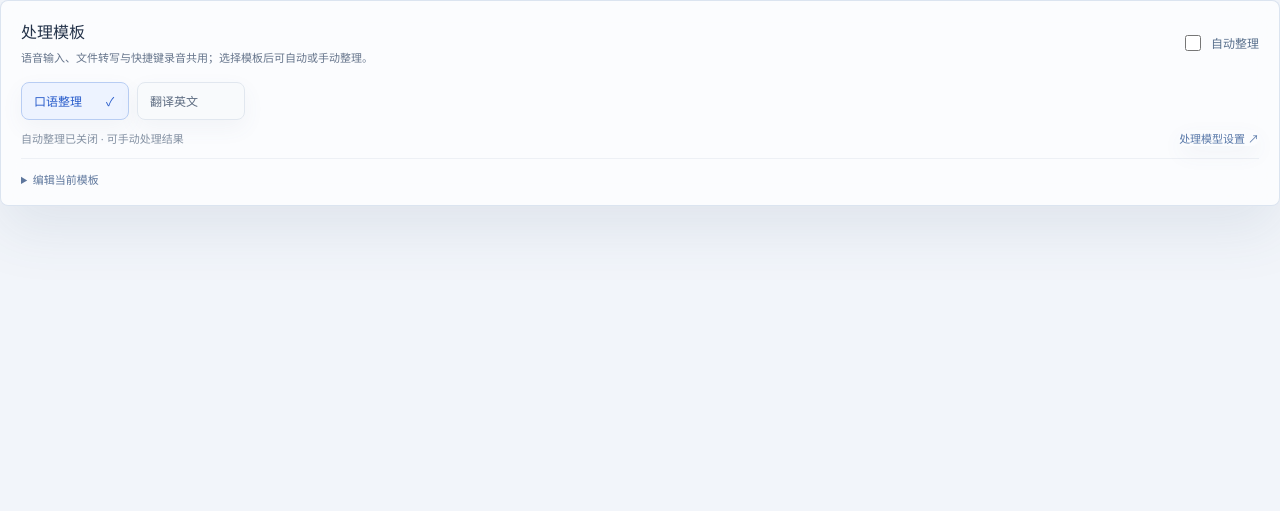
Scenario: inline recognition prompt templates › edits, adds and deletes templates in one expandable editor and retains at least one
Step 1. Click the heading "编辑当前模板" → click(66, 179), box [33,172,99,187]
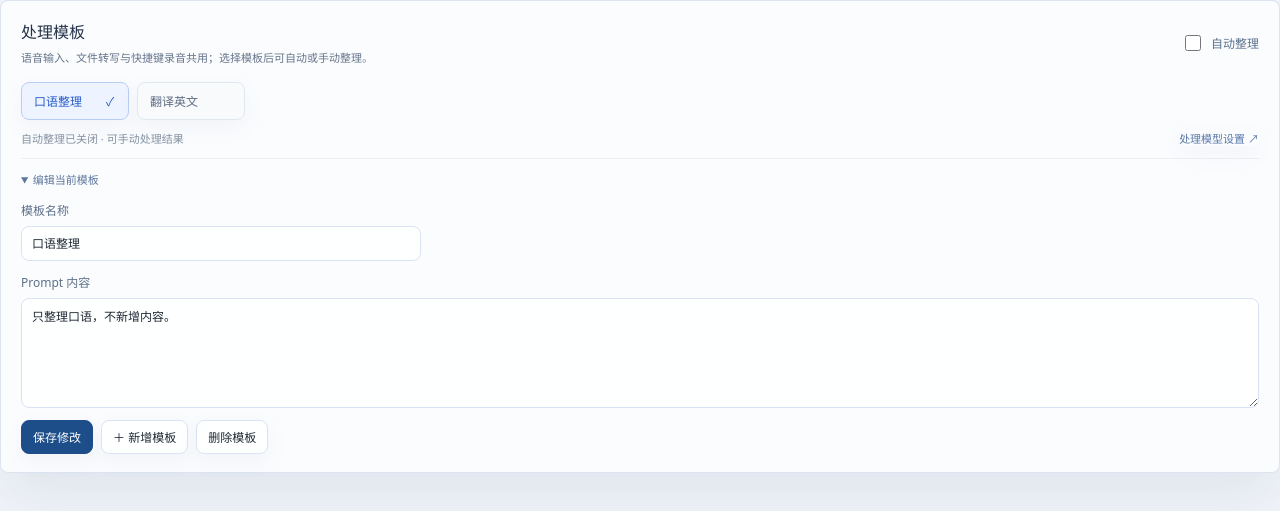
Step 2. Replace the text in the field labelled "模板名称" with "我的整理" → (221, 243), box [21,226,421,261]
Step 3. Replace the text in the text box labelled "Prompt 内容" with "保留术语。" → (640, 353), box [21,298,1259,408]
Step 4. Click the button "保存修改" → click(57, 437), box [21,420,93,454]
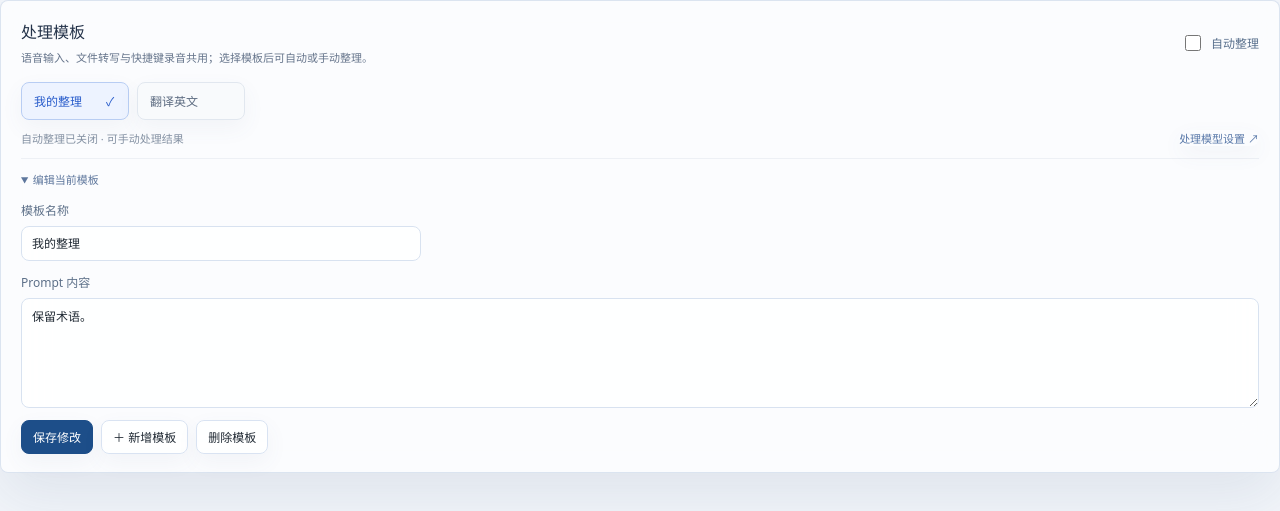
Step 5. Click the button "＋ 新增模板" → click(145, 437), box [101,420,188,454]
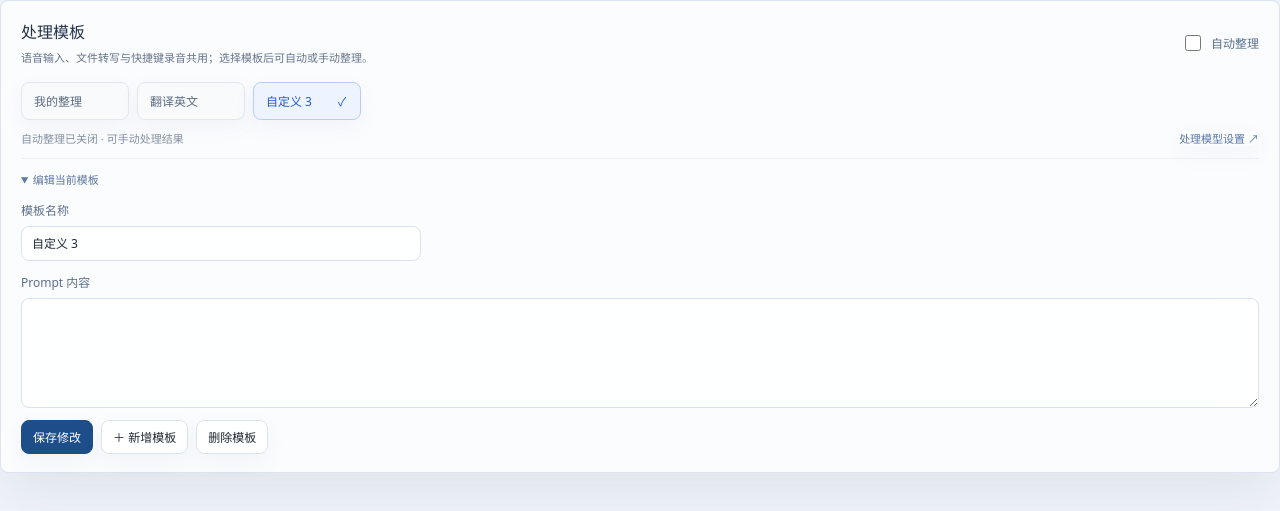
Result: the text box labelled "Prompt 内容" is empty at [21,298,1259,408]
Step 6. Click the button "删除模板" → click(232, 437), box [196,420,268,454]
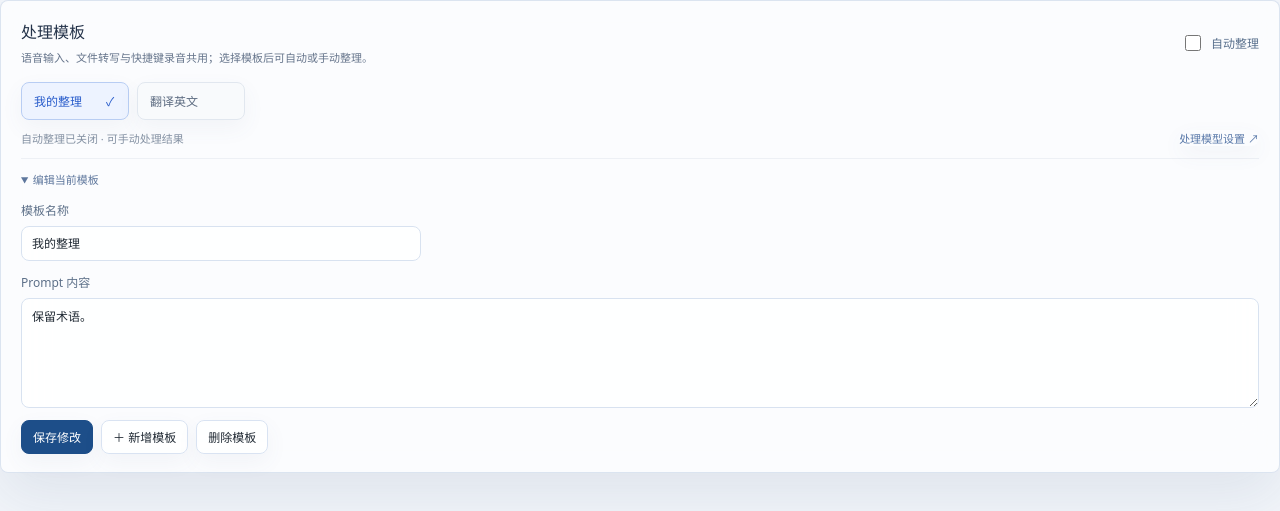
Result: the button with aria-label "选择模板：我的整理" is pressed at [21,82,129,120]
Step 7. Click the button with aria-label "选择模板：翻译英文" → click(191, 101), box [137,82,245,120]
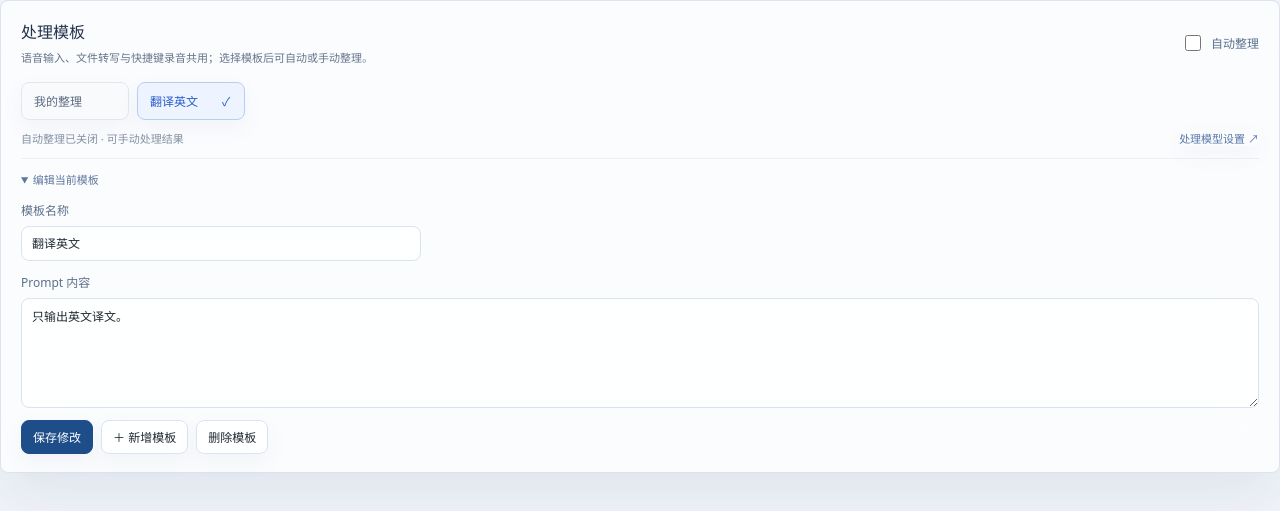
Result: the text box labelled "Prompt 内容" holds "只输出英文译文。" at [21,298,1259,408]
Step 8. Click the button "删除模板" → click(232, 437), box [196,420,268,454]
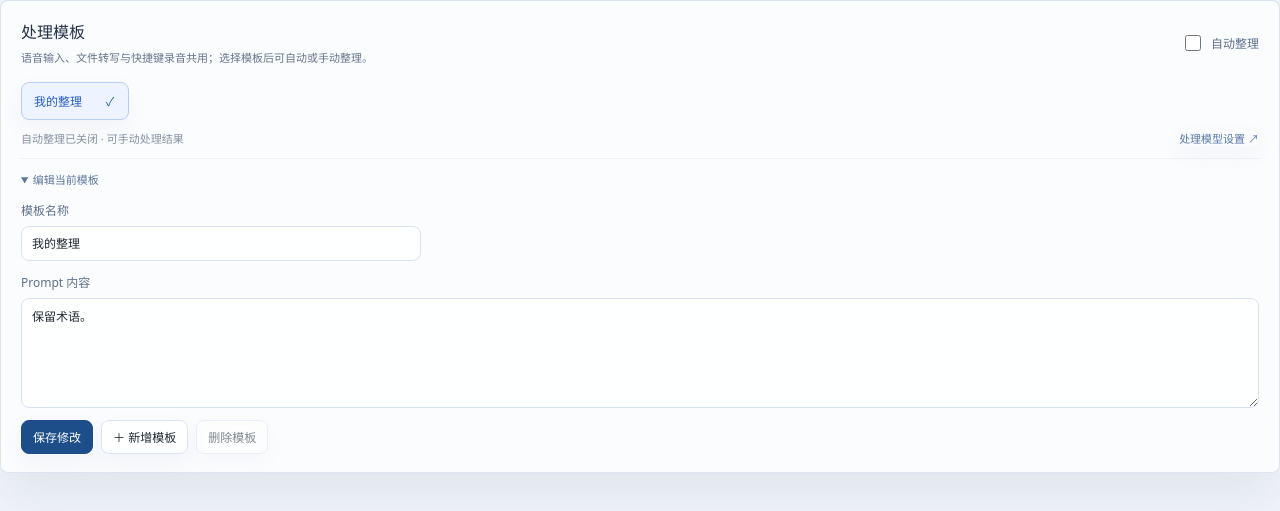
Result: the button "删除模板" is disabled at [196,420,268,454]
